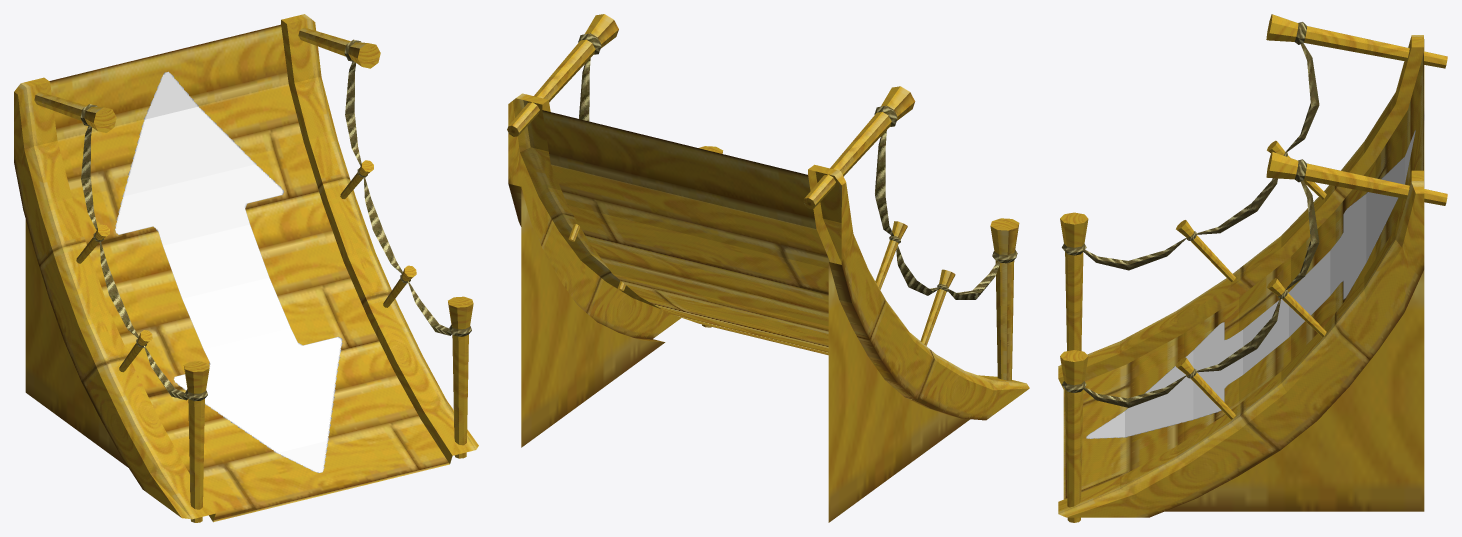
The model's file is MysteryGravityRoomBridgeA.dae.
The picture shows the model from 3 angles, left to right: view 1: azimuth 30°, elevation 25°; view 2: azimuth 150°, elevation 25°; view 3: azimuth 270°, elevation 25°; orthographic projection. The views are drawn at different scales.
Visible parts, largest first — view 1: m1, m0, m2; view 2: m1, m2; view 3: m1, m0, m2.
Part boxes in pixels (x1,y1,x2,y2): m1: (14,14,478,522); m0: (115,71,342,473); m2: (80,39,471,401); m1: (507,14,1029,522); m2: (578,33,1017,299); m1: (1058,14,1447,522); m0: (1086,130,1415,438); m2: (1062,22,1319,407).
Size of the model in its own units: 400 by 445 by 426.
Materials: 3 (3 with a texture image).
